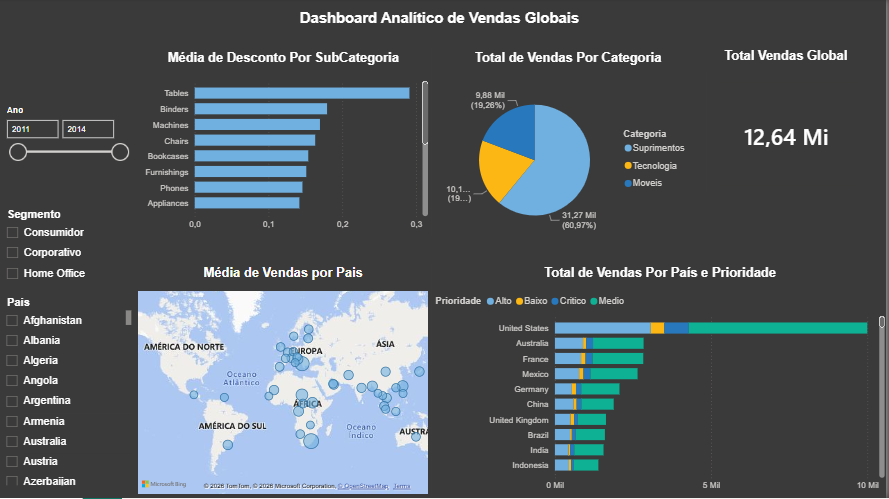

The page's visual inventory and layout, read from the dashboard file:
{"tool":"powerbi","page":{"name":"Vendas Globais","canvas":[1280,720],"ordinal":0},"visuals":[{"type":"cardVisual","title":"Total Vendas Global ","fields":{"Data":["Sum(dataset.Total_Vendas)"]},"box":[1015,71.7,238.5,215.1],"z":0},{"type":"pieChart","title":"Total de Vendas Por Categoria","fields":{"Category":["dataset.Categoria"],"Y":["CountNonNull(dataset.ID_Pedido)"]},"box":[640,75,363.5,285.1],"z":1000},{"type":"barChart","title":"Total de Vendas Por País e Prioridade","fields":{"Category":["dataset.Pais"],"Y":["CountNonNull(dataset.ID_Pedido)"],"Series":["dataset.Prioridade"]},"box":[624.4,384.4,657.1,333.7],"z":2000},{"type":"clusteredBarChart","title":"Média de Desconto Por SubCategoria","fields":{"Category":["dataset.SubCategoria"],"Y":["Avg(dataset.Desconto)"]},"box":[196.7,75,427,266.2],"z":3000},{"type":"map","title":"Média de Vendas por Pais","fields":{"Category":["dataset.Pais"],"Size":["Avg(dataset.Total_Vendas)"]},"box":[197.3,384.5,426.7,335],"z":4000},{"type":"slicer","fields":{"Values":["dataset.Pais"]},"box":[0,425,196.7,281.7],"z":5000},{"type":"slicer","fields":{"Values":["dataset.Segmento"]},"box":[0,298.3,196.7,126.7],"z":6000},{"type":"slicer","fields":{"Values":["dataset.Data_Pedido.Variation.Hierarquia de datas.Ano"]},"box":[0,150,196.7,136.7],"z":7000},{"type":"textbox","box":[311.7,11.7,655,46.7],"z":8000}]}

Visuals, with their boxes in screenshot pixels (x1, y1, x2, y2), scaled from the page's 1280x720 canvas onto the 889x499 screenshot:
"Total Vendas Global " cardVisual: locate(705, 50, 871, 199)
"Total de Vendas Por Categoria" pieChart: locate(444, 52, 697, 250)
"Total de Vendas Por País e Prioridade" barChart: locate(434, 266, 888, 498)
"Média de Desconto Por SubCategoria" clusteredBarChart: locate(137, 52, 433, 236)
"Média de Vendas por Pais" map: locate(137, 266, 433, 498)
slicer - dataset.Pais: locate(0, 295, 137, 490)
slicer - dataset.Segmento: locate(0, 207, 137, 295)
slicer - dataset.Data_Pedido.Variation.Hierarquia de datas.Ano: locate(0, 104, 137, 199)
textbox: locate(216, 8, 671, 40)
